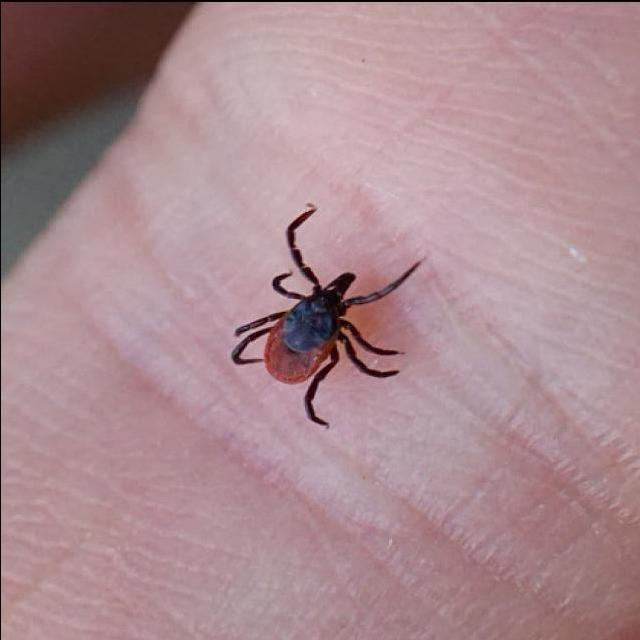Ixodes Ricinus-F: (232, 205, 417, 425)
